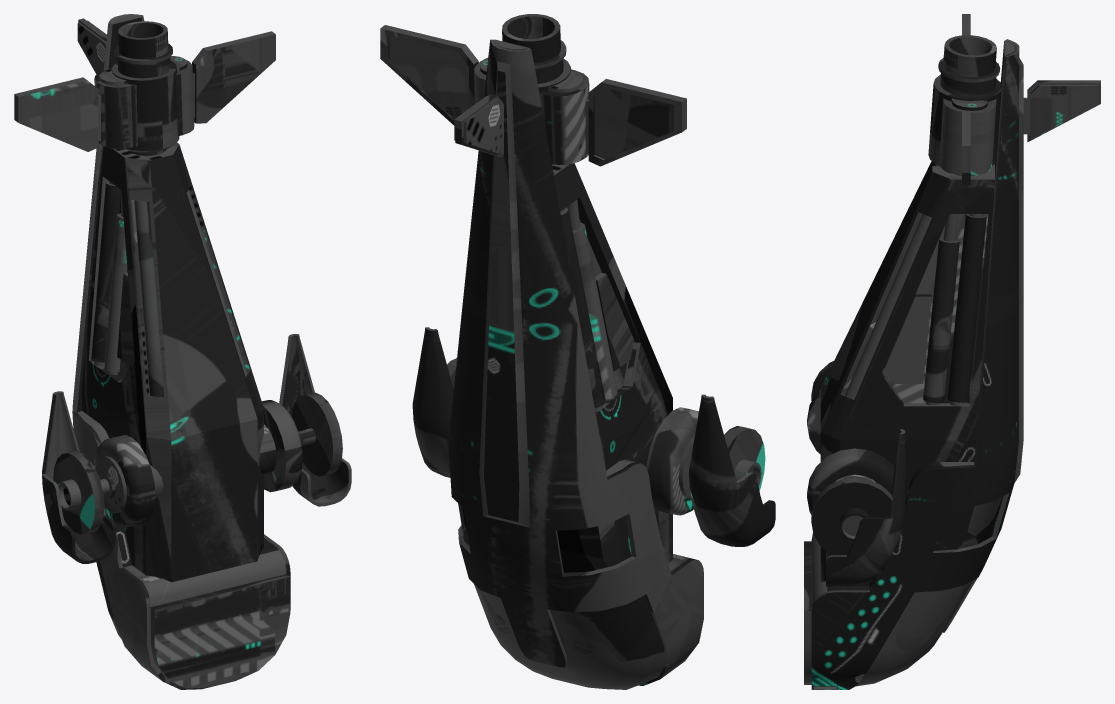
Rendered from SpaceshipFinal.fbx.
3 views of the same model, side by side, from view 1: azimuth 30°, elevation 25°; view 2: azimuth 150°, elevation 25°; view 3: azimuth 270°, elevation 25° (orthographic). The views are drawn at different scales.
Parts seen in each view (by area): view 1: Spaceship; view 2: Spaceship, Front_Window, Spaceship.001; view 3: Spaceship, Front_Window.
Part boxes in pixels (box(x1,y1,x2,y2)): Spaceship: box(14, 14, 351, 689); Spaceship: box(380, 14, 775, 685); Front_Window: box(474, 584, 665, 689); Spaceship.001: box(465, 525, 607, 572); Spaceship: box(804, 14, 1100, 689); Front_Window: box(856, 532, 978, 686).
Bounding box in the file's own units: 1.53 × 3.14 × 1.34.
